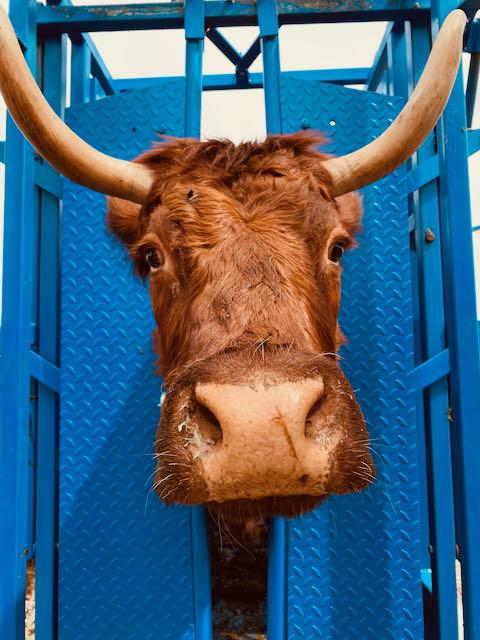muzzles: (143, 377, 378, 520)
